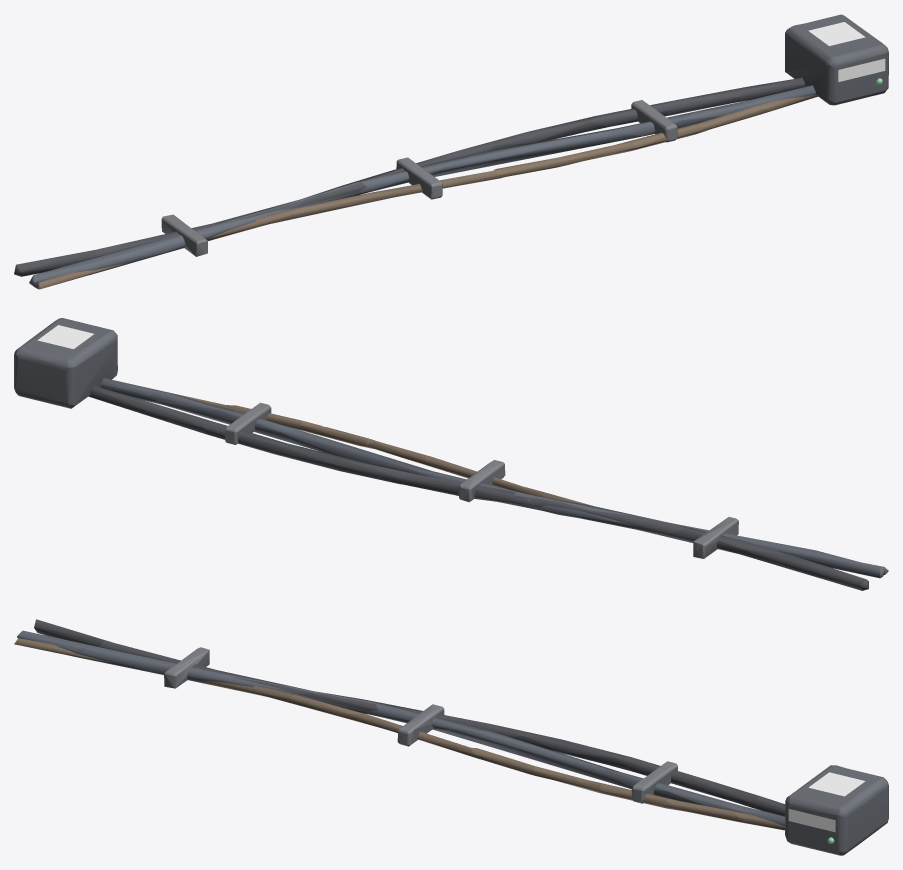
Rendered from cables.glb.
3 renders of one model, top to bottom at view 1: azimuth 30°, elevation 25°; view 2: azimuth 150°, elevation 25°; view 3: azimuth 330°, elevation 25°, orthographic.
Parts seen in each view (by area): view 1: cables, cables_decal; view 2: cables, cables_decal; view 3: cables, cables_decal.
Boxes of the visible parts, <box> form: cables: <box>14,14,888,289</box>; cables_decal: <box>808,22,885,81</box>; cables: <box>14,318,888,590</box>; cables_decal: <box>37,325,93,348</box>; cables: <box>14,619,888,855</box>; cables_decal: <box>788,772,865,832</box>.
Size of the model in its own units: 3.24 by 0.189 by 0.3321.
